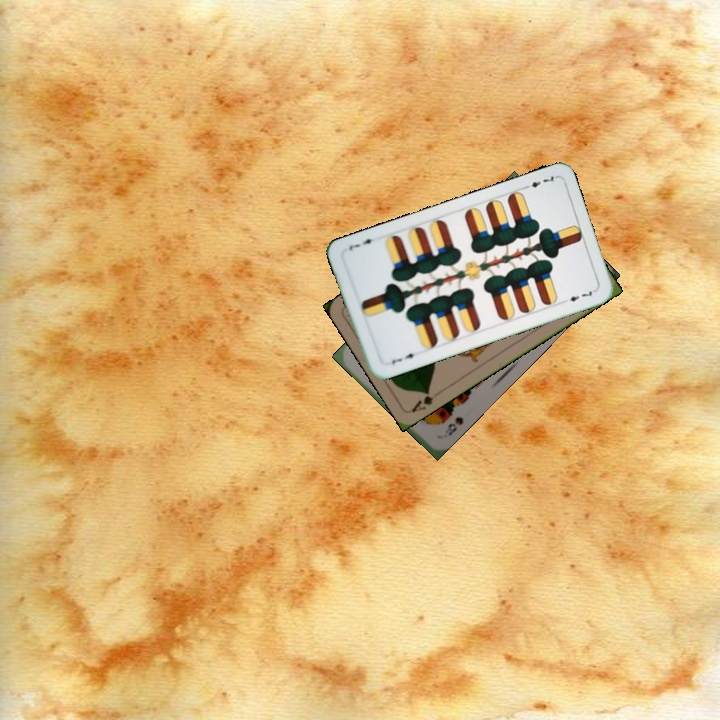E7: (519, 172, 559, 192), (387, 349, 420, 367)
GA: (407, 386, 436, 415)
S8: (441, 412, 466, 439)
